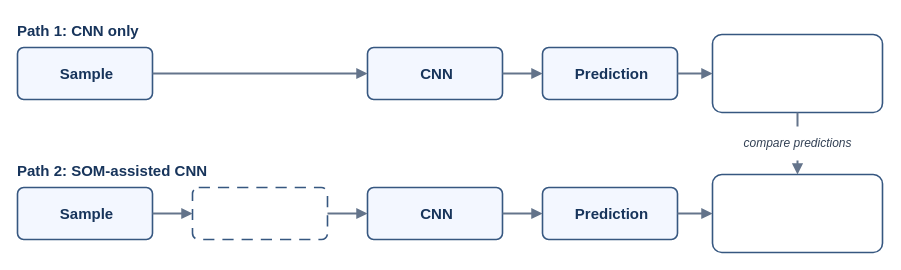
The diagram is 901 pixels wide and 270 high, and some of its shapes have lost their labels. Here are the shapes that lost their labels. From the top down, the centre of each, then its label:
At point (797, 73): "CF1 confusion matrix (as in Phase 1)".
At point (259, 213): "SOM-guided retraining".
At point (797, 213): "CF2 confusion matrix (after retraining)".
